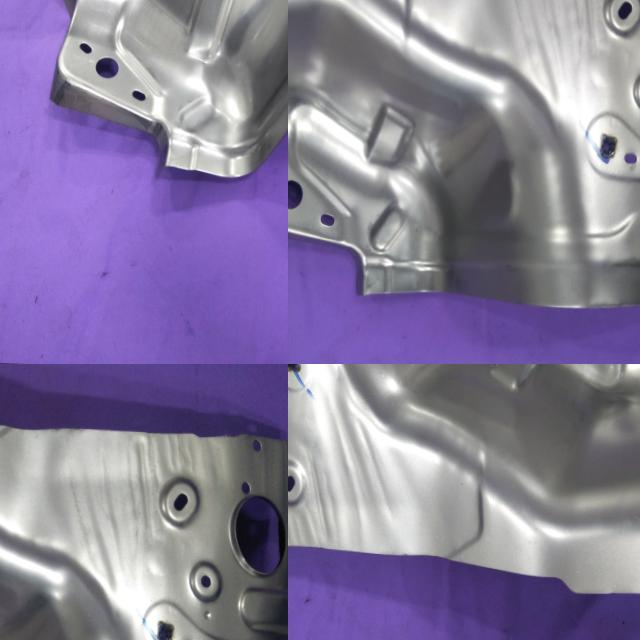Healthy: (288, 0, 640, 313), (288, 364, 640, 600), (0, 394, 288, 640), (15, 0, 288, 187)
